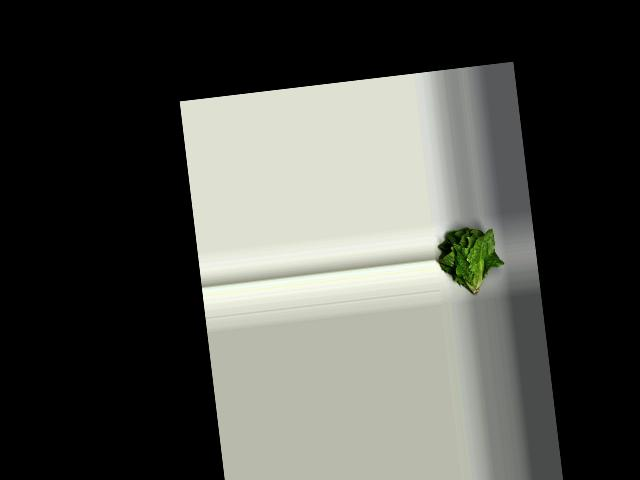lettuce: (430, 221, 506, 303)
